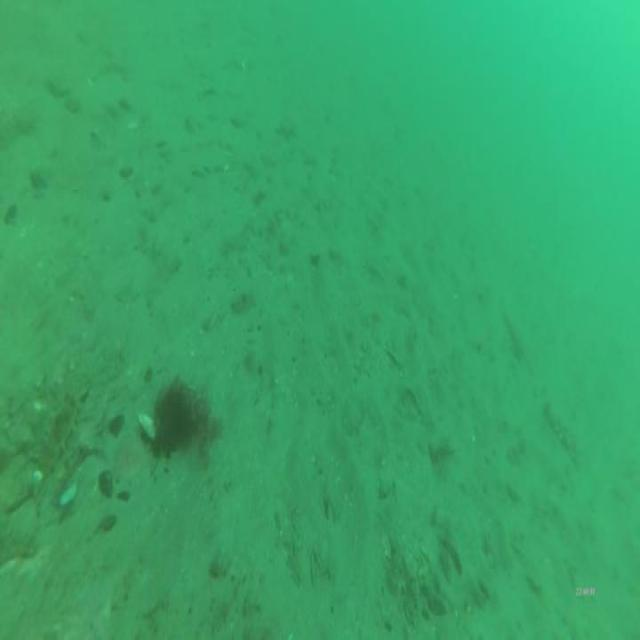echinus: (150, 379, 206, 462)
holothurian: (33, 389, 85, 482), (50, 428, 103, 509), (542, 398, 582, 466)
